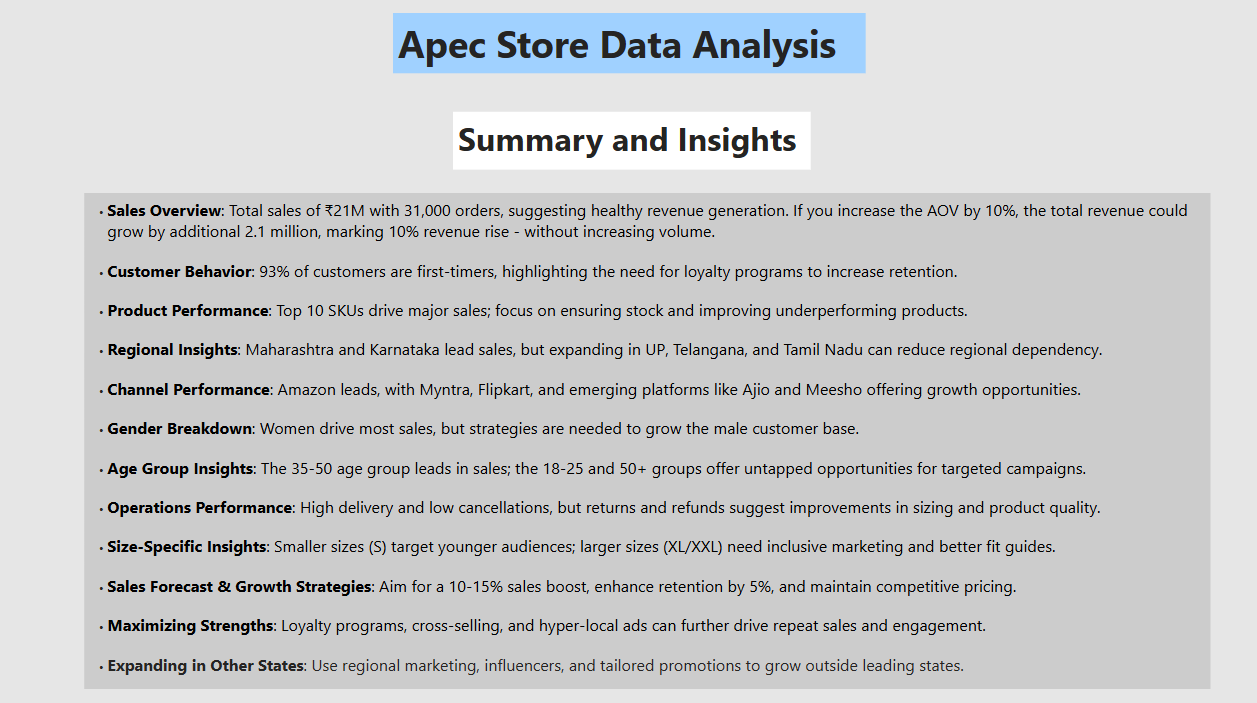

What the dashboard file says about the page in this screenshot:
{"tool":"powerbi","page":{"name":"Summary and Insights","canvas":[1280,720],"ordinal":3},"visuals":[{"type":"textbox","box":[408,19.9,470.2,59.7],"z":0},{"type":"textbox","box":[467.7,118.2,355.8,57.2],"z":1000},{"type":"textbox","box":[101,199.1,1120.7,493.5],"z":2000}]}

Visuals, with their boxes in screenshot pixels (x1, y1, x2, y2), scaled from the page's 1280x720 canvas onto the 1257x703 screenshot:
textbox: (401, 19, 862, 78)
textbox: (459, 115, 809, 171)
textbox: (99, 194, 1200, 676)
